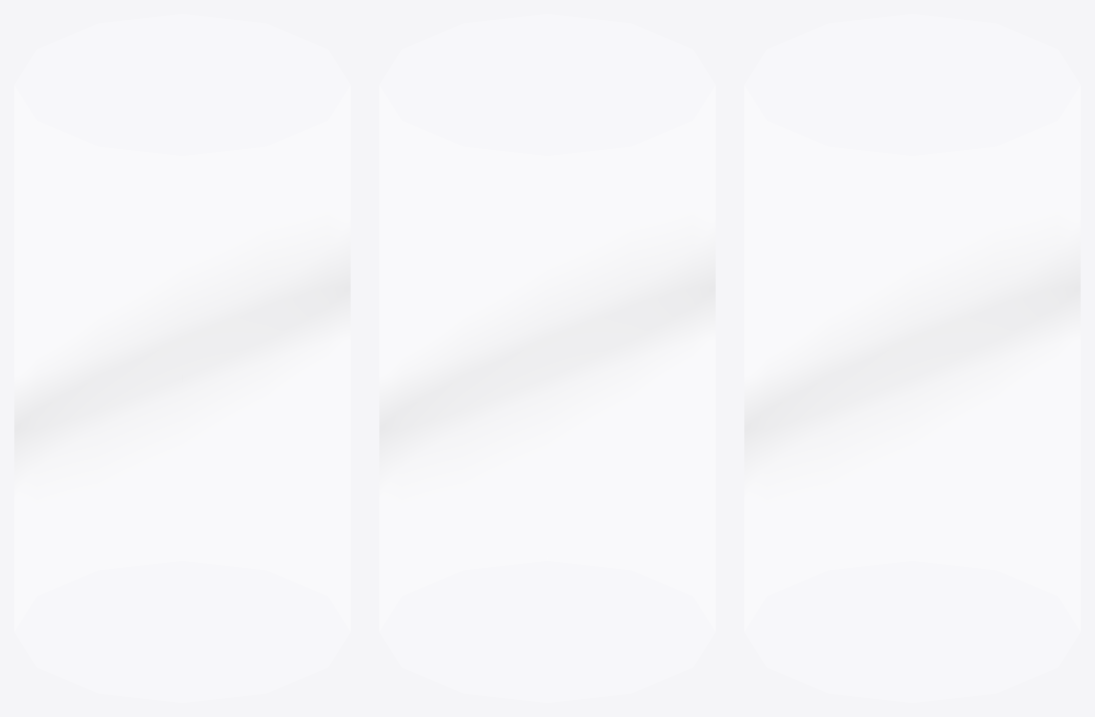
The model's file is ScienceContainer_01.glb.
3 renders of one model, left to right at view 1: azimuth 30°, elevation 25°; view 2: azimuth 150°, elevation 25°; view 3: azimuth 270°, elevation 25°, orthographic.
Parts seen in each view (by area): view 1: ScienceContainer_01_primitive1; view 2: ScienceContainer_01_primitive1; view 3: ScienceContainer_01_primitive1.
Boxes of the visible parts, x1,y1,x2,y2 form: ScienceContainer_01_primitive1: (14,14,350,702); ScienceContainer_01_primitive1: (379,14,715,702); ScienceContainer_01_primitive1: (744,14,1080,702).
Size of the model in its own units: 0.4715 by 0.8451 by 0.4715.
1 material, 1 textured.
